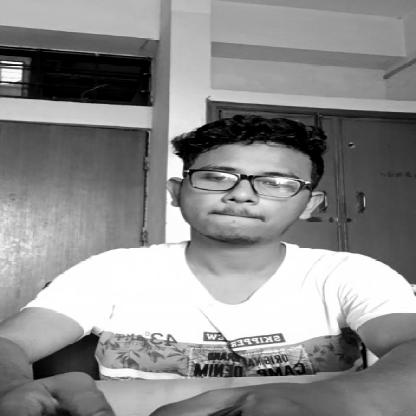Normal: (171, 130, 355, 255)
